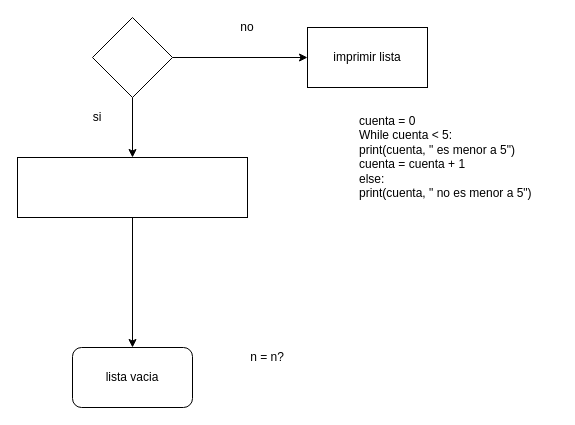
This 575x425 diagram has some shape labels left out. Each missing label, with the centre of its shape:
input "ingresar números": [132,187]
while <= 15?: [132,57]
